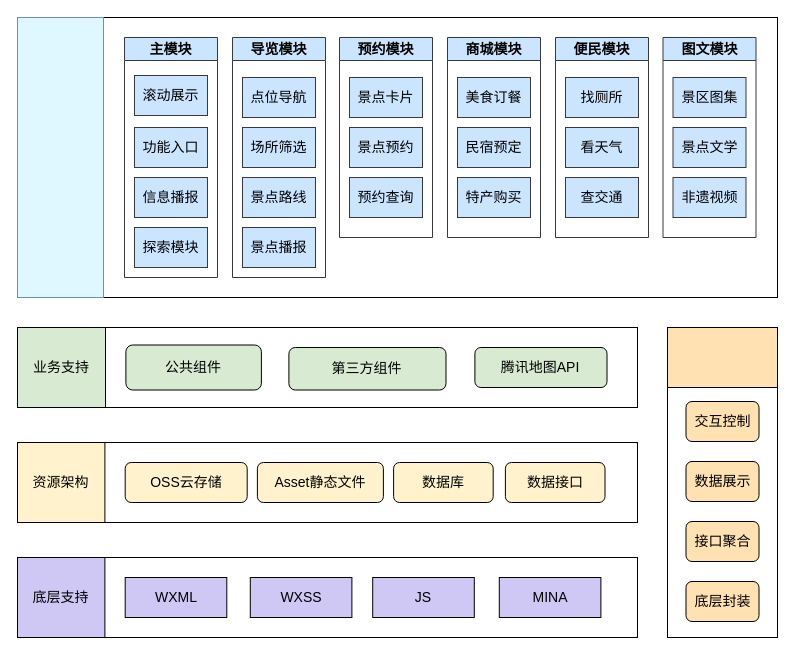
This 795x655 diagram has some shape labels left out. The centre of each missing label's shape, as x and y in pixels:
业务模块: point (60, 157)
技术架构: point (722, 357)
